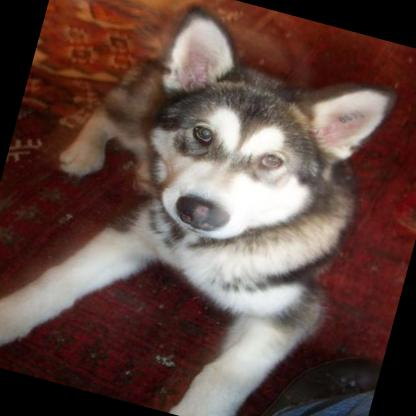malamute: (0, 0, 403, 416)
